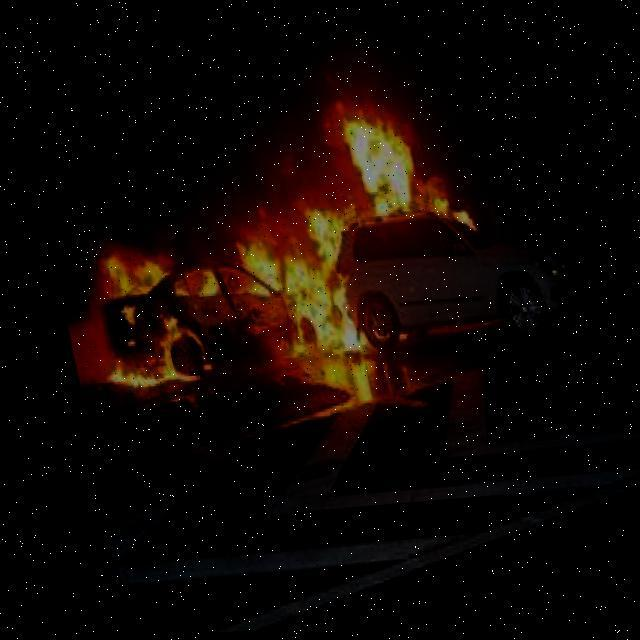Fire: (47, 110, 486, 402)
